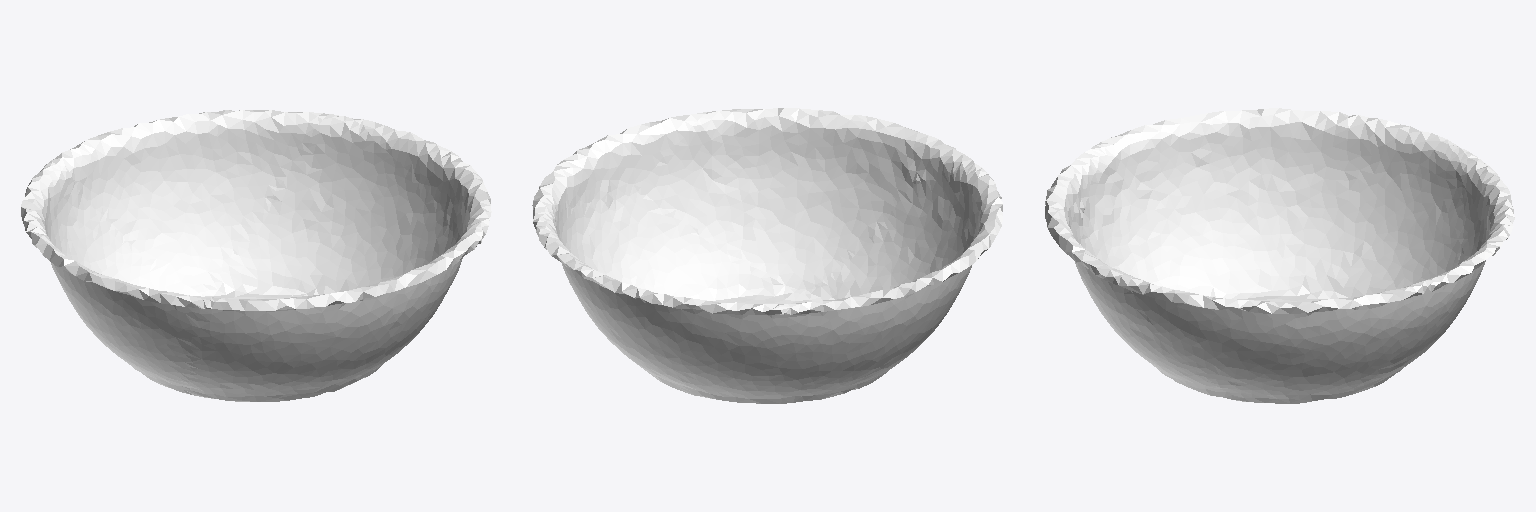
URDF robot description (bowl):
<?xml version="1.0" ?>
<robot name="bowl">
  <link name="baseLink">
    <contact>
    	<friction_anchor/>
    	   <lateral_friction value="1.0"/>
    </contact>
    <inertial>
      <origin rpy="0 0 0" xyz="0 0 0"/>
       <!-- mass controls penetration -->
       <mass value=".5"/>
       <inertia ixx="1e-4" ixy="0" ixz="0" iyy="1e-4" iyz="0" izz="1e-4"/>
    </inertial>
    <visual>
      <origin rpy="0 0 0" xyz="0 0 0"/>
      <geometry>
        <mesh filename="bowl.obj"/>
      </geometry>
       <material name="white">
        <color rgba="1 1 1 1"/>
      </material>
    </visual>
    <collision>
      <origin rpy="0 0 0" xyz="0 0 0"/>
      <geometry>
        <mesh filename="bowl.obj"/>
      </geometry>
    </collision>
  </link>
</robot>

--- Facts derived from the render (not from the file) ---
The picture shows the robot from 3 angles, left to right: view 1: azimuth 30°, elevation 25°; view 2: azimuth 150°, elevation 25°; view 3: azimuth 270°, elevation 25°; orthographic projection.
Robot: bowl — 1 links, 0 joints (none); root link baseLink; default pose: every joint at zero.
Visible links, largest first — view 1: baseLink; view 2: baseLink; view 3: baseLink.
Boxes of the visible links, x1,y1,x2,y2 form: baseLink: (21,110,491,401); baseLink: (532,108,1002,403); baseLink: (1045,108,1514,403).
Size in the robot's own frame: 0.1608 by 0.1607 by 0.0551 metres.
Meshes: 1 distinct files referenced, 1 mesh visuals loaded (1 OBJ).